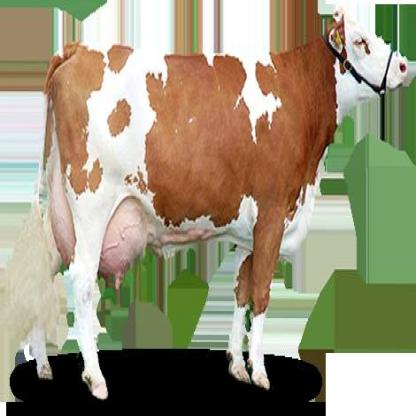cow: (8, 6, 409, 403)
